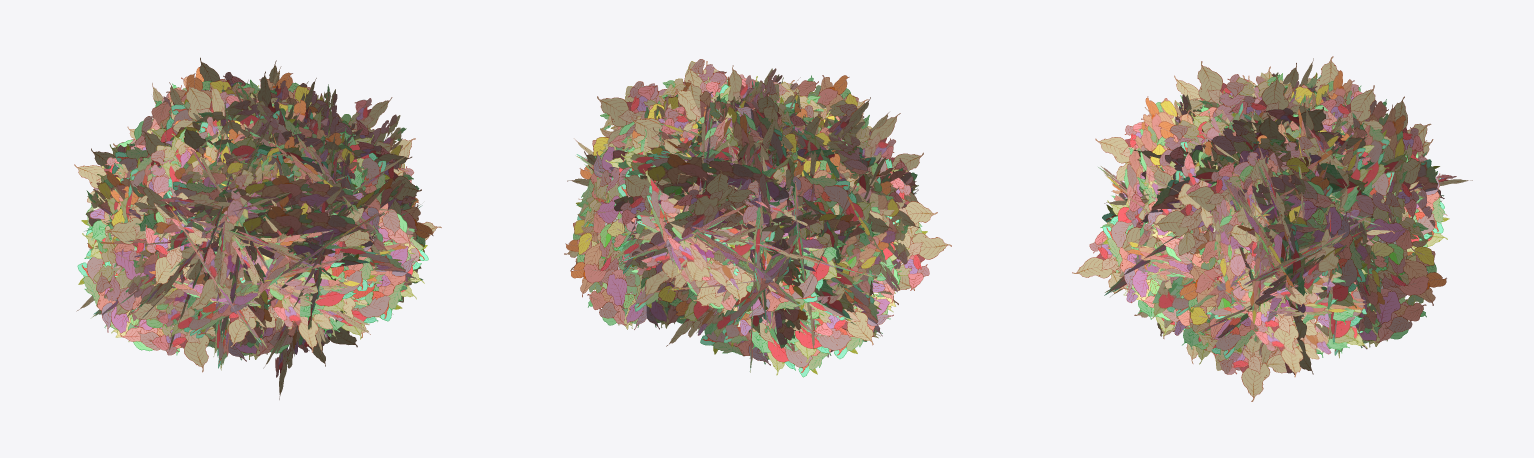
File: Bush03.fbx
3 views of the same model, side by side, from view 1: azimuth 30°, elevation 25°; view 2: azimuth 150°, elevation 25°; view 3: azimuth 270°, elevation 25° (orthographic).
Parts seen in each view (by area): view 1: Leaf.001; view 2: Leaf.001; view 3: Leaf.001.
Boxes of the visible parts, x1=… form: Leaf.001: x1=74, y1=57, x2=441, y2=399; Leaf.001: x1=564, y1=59, x2=951, y2=377; Leaf.001: x1=1072, y1=56, x2=1472, y2=401.
Size of the model in its own units: 4.57 by 3.8 by 4.68.
Materials: 1 (1 with a texture image).
